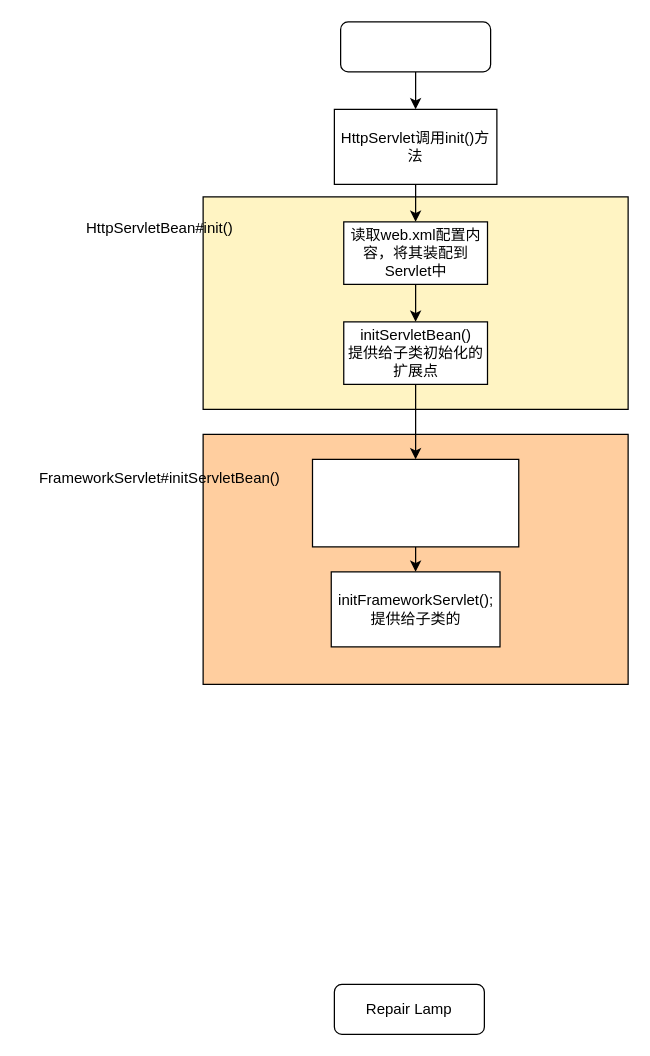
Some shapes in this 650 by 1056 pixel diagram are drawn without their labels. Here are the shapes that lost their labels. From the top down, the centre of each, then its label:
At [415,46]: "servlet容器启动".
At [415,502]: "initWebApplicationContext() 初始化web上下文".
